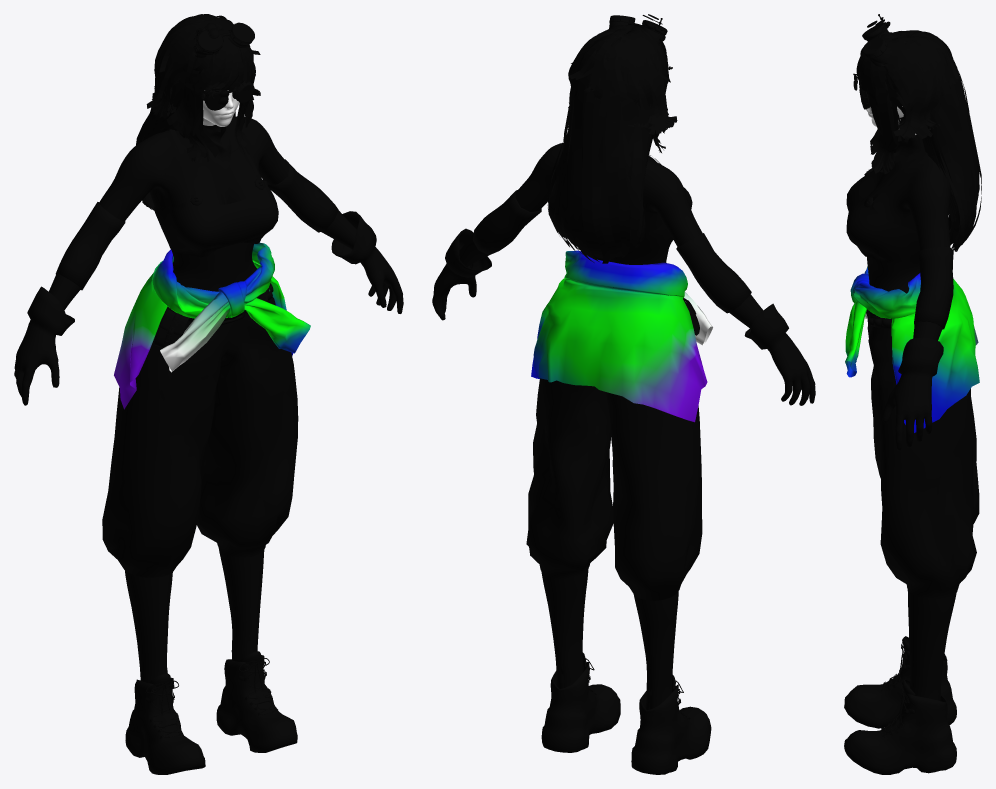
Rendered from SK_MechanicGirl_AllPartsTogether.obj.
3 views of the same model, side by side, from view 1: azimuth 30°, elevation 25°; view 2: azimuth 150°, elevation 25°; view 3: azimuth 270°, elevation 25° (orthographic). The views are drawn at different scales.
Visible parts, largest first — view 1: SK_MECHANICGIRL_PANTS, SK_MECHANICGIRL_BODY_CUT, SK_MECHANICGIRL_SHIRT, SK_MECHANICGIRL_SHOES, SK_MECHANICGIRL_HAIR_SHORT, SK_MECHANICGIRL_BODY_FULL, SK_MECHANICGIRL_GLOVES, SK_MECHANICGIRL_TOP, SK_MECHANICGIRL_ELBOWS, SK_MECHANICGIRL_HAIR_LOOSE, SK_MECHANICGIRL_GLASSES_UP, SK_MECHANICGIRL_BELT (+3 smaller); view 2: SK_MECHANICGIRL_PANTS, SK_MECHANICGIRL_SHIRT, SK_MECHANICGIRL_HAIR_LOOSE, SK_MECHANICGIRL_SHOES, SK_MECHANICGIRL_BODY_FULL, SK_MECHANICGIRL_BODY_CUT, SK_MECHANICGIRL_HAIR_SHORT, SK_MECHANICGIRL_GLOVES, SK_MECHANICGIRL_ELBOWS, SK_MECHANICGIRL_TOP, SK_MECHANICGIRL_GLASSES_UP; view 3: SK_MECHANICGIRL_PANTS, SK_MECHANICGIRL_SHOES, SK_MECHANICGIRL_SHIRT, SK_MECHANICGIRL_HAIR_SHORT, SK_MECHANICGIRL_HAIR_LOOSE, SK_MECHANICGIRL_BODY_FULL, SK_MECHANICGIRL_BODY_CUT, SK_MECHANICGIRL_GLOVES, SK_MECHANICGIRL_TOP, SK_MECHANICGIRL_ELBOWS, SK_MECHANICGIRL_GLASSES_UP, SK_MECHANICGIRL_SCARF (+1 smaller).
Part boxes in pixels (x1,y1,x2,y2): SK_MECHANICGIRL_PANTS: [102, 266, 298, 577]; SK_MECHANICGIRL_BODY_CUT: [48, 117, 356, 675]; SK_MECHANICGIRL_SHIRT: [114, 242, 310, 409]; SK_MECHANICGIRL_SHOES: [125, 651, 297, 774]; SK_MECHANICGIRL_HAIR_SHORT: [146, 14, 260, 164]; SK_MECHANICGIRL_BODY_FULL: [32, 116, 394, 683]; SK_MECHANICGIRL_GLOVES: [14, 211, 403, 405]; SK_MECHANICGIRL_TOP: [153, 122, 278, 257]; SK_MECHANICGIRL_ELBOWS: [55, 159, 338, 290]; SK_MECHANICGIRL_HAIR_LOOSE: [136, 14, 251, 210]; SK_MECHANICGIRL_GLASSES_UP: [191, 22, 254, 57]; SK_MECHANICGIRL_BELT: [154, 283, 273, 347]; SK_MECHANICGIRL_PANTS: [526, 295, 702, 600]; SK_MECHANICGIRL_SHIRT: [531, 250, 712, 422]; SK_MECHANICGIRL_HAIR_LOOSE: [547, 27, 663, 263]; SK_MECHANICGIRL_SHOES: [541, 652, 711, 774]; SK_MECHANICGIRL_BODY_FULL: [461, 143, 751, 709]; SK_MECHANICGIRL_BODY_CUT: [459, 156, 763, 710]; SK_MECHANICGIRL_HAIR_SHORT: [568, 24, 677, 152]; SK_MECHANICGIRL_GLOVES: [432, 228, 815, 405]; SK_MECHANICGIRL_ELBOWS: [472, 190, 751, 313]; SK_MECHANICGIRL_TOP: [615, 154, 692, 260]; SK_MECHANICGIRL_GLASSES_UP: [609, 14, 667, 49]; SK_MECHANICGIRL_PANTS: [867, 324, 979, 598]; SK_MECHANICGIRL_SHOES: [844, 636, 956, 774]; SK_MECHANICGIRL_SHIRT: [845, 266, 979, 432]; SK_MECHANICGIRL_HAIR_SHORT: [856, 30, 961, 174]; SK_MECHANICGIRL_HAIR_LOOSE: [860, 32, 981, 251]; SK_MECHANICGIRL_BODY_FULL: [873, 135, 955, 700]; SK_MECHANICGIRL_BODY_CUT: [859, 135, 956, 689]; SK_MECHANICGIRL_GLOVES: [882, 337, 943, 450]; SK_MECHANICGIRL_TOP: [846, 152, 951, 265]; SK_MECHANICGIRL_ELBOWS: [914, 246, 953, 329]; SK_MECHANICGIRL_GLASSES_UP: [862, 14, 892, 73]; SK_MECHANICGIRL_SCARF: [880, 135, 923, 172].
Bounding box in the file's own units: 98.33 × 182 × 31.6.
